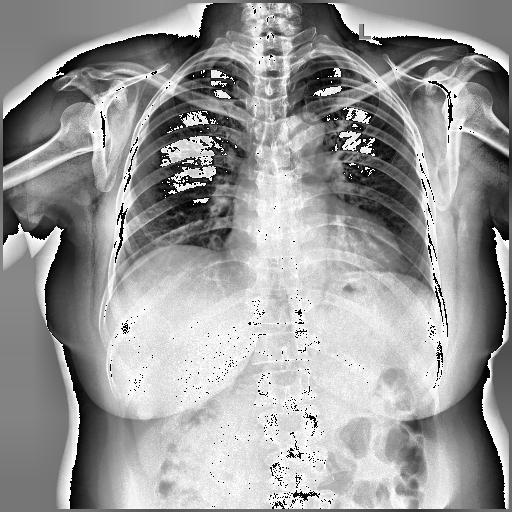0- Aortic enlargement: (279, 110, 329, 170), (280, 116, 328, 167), (280, 111, 326, 148)
3- Cardiomegaly: (220, 222, 402, 288), (220, 213, 402, 272), (220, 218, 402, 276)
